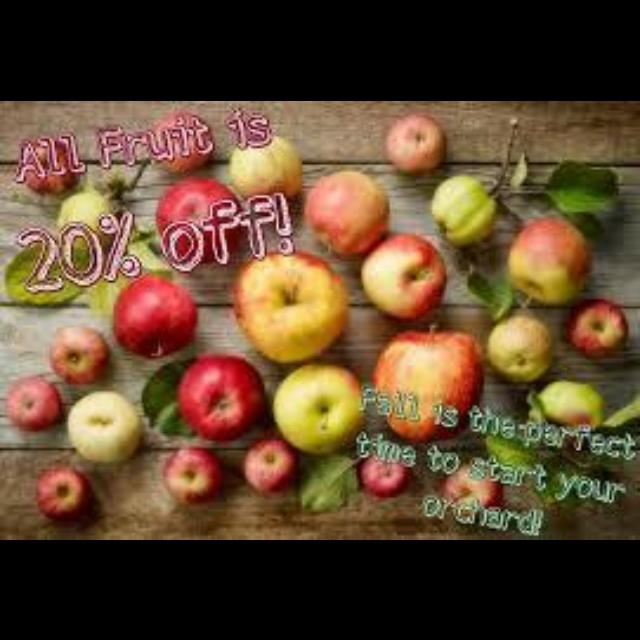apple: (234, 251, 347, 360), (373, 329, 482, 440), (272, 362, 361, 452), (177, 353, 265, 440), (361, 232, 444, 317), (508, 216, 588, 303), (305, 168, 387, 251), (113, 275, 196, 355), (66, 390, 142, 461), (156, 176, 239, 232), (486, 313, 550, 379), (229, 135, 300, 194), (385, 112, 444, 171), (567, 298, 626, 355), (50, 324, 109, 381), (243, 435, 298, 492), (163, 447, 220, 501), (5, 374, 61, 428), (536, 381, 602, 426), (35, 466, 90, 518), (57, 185, 111, 228), (444, 464, 501, 504), (359, 457, 409, 494), (198, 232, 217, 261), (227, 228, 243, 249), (177, 237, 191, 254)
